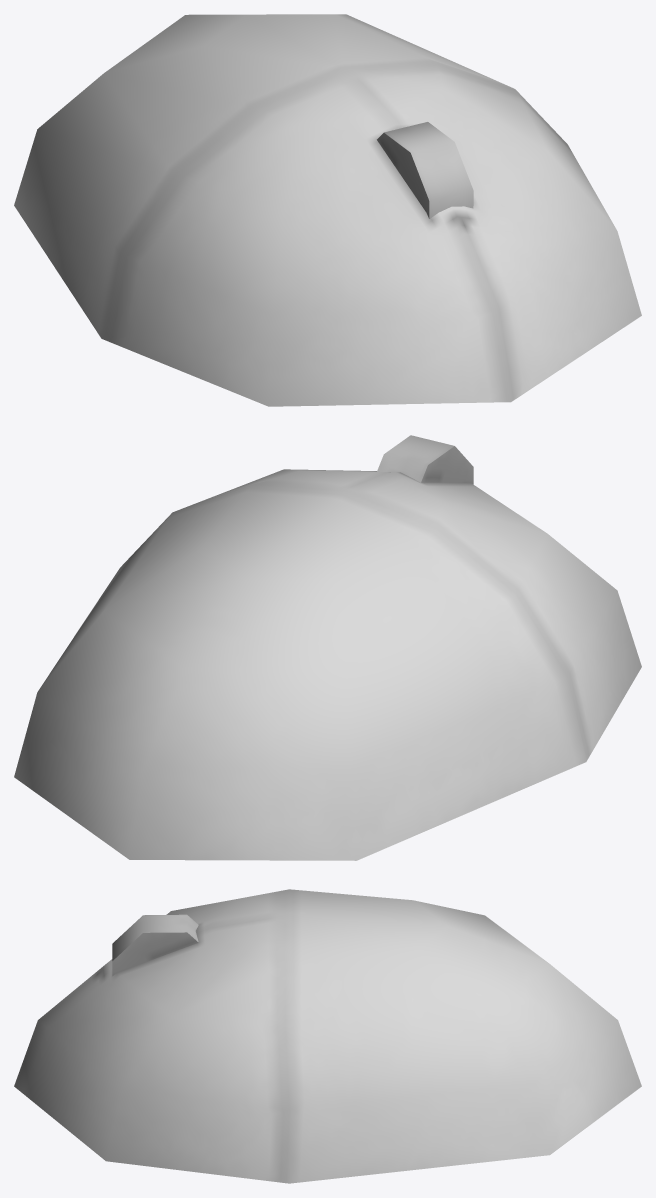
File: Pfb_Computer__3.fbx
3 views of the same model, one above another, from view 1: azimuth 30°, elevation 25°; view 2: azimuth 150°, elevation 25°; view 3: azimuth 270°, elevation 25° (orthographic). The views are drawn at different scales.
Visible parts, largest first — view 1: Mat_Computer_01_01 _2 1; view 2: Mat_Computer_01_01 _2 1; view 3: Mat_Computer_01_01 _2 1.
Boxes of the visible parts, x1,y1,x2,y2 form: Mat_Computer_01_01 _2 1: (14, 14, 641, 406); Mat_Computer_01_01 _2 1: (14, 435, 641, 860); Mat_Computer_01_01 _2 1: (14, 889, 641, 1183).
Bounding box in the file's own units: 0.1694 × 0.0703 × 0.2311.
1 material, 1 textured.
